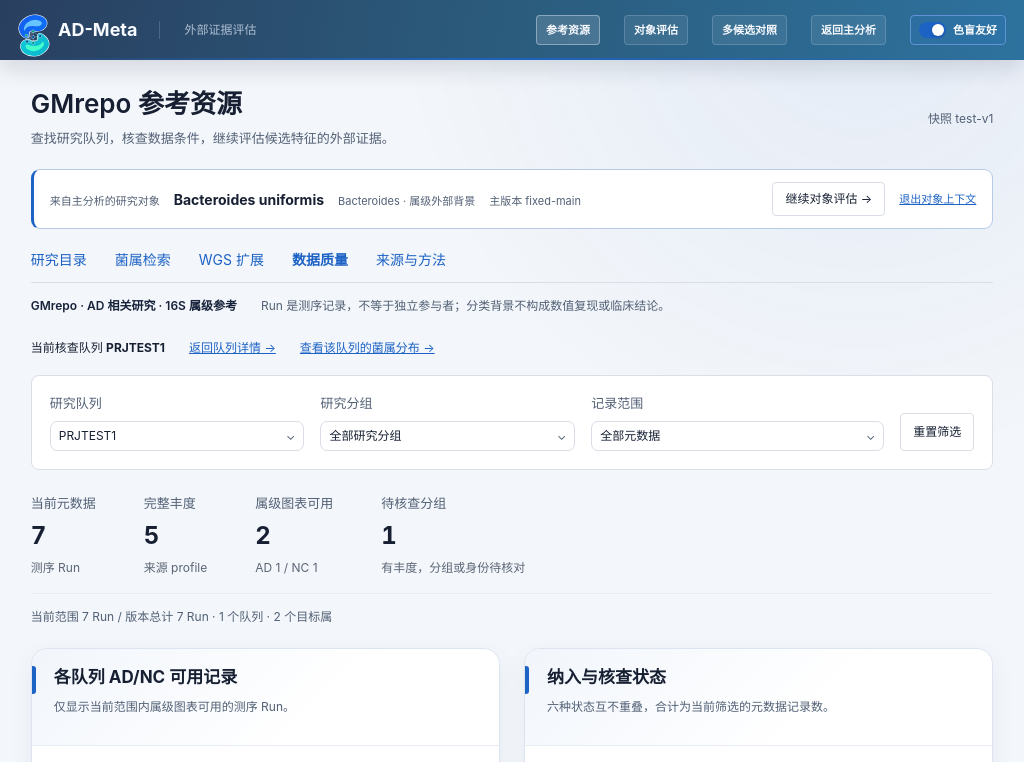
resources preserve the active main subject through view changes and quality-filter resets
Expected: the text "Bacteroides uniformis" is shown, x1=174 y1=189 x2=324 y2=210
Expected: the element named "当前研究对象" shows "Bacteroides uniformis", x1=174 y1=191 x2=324 y2=208
Click the button "重置筛选".
click(937, 432)  # box x1=900 y1=413 x2=974 y2=451
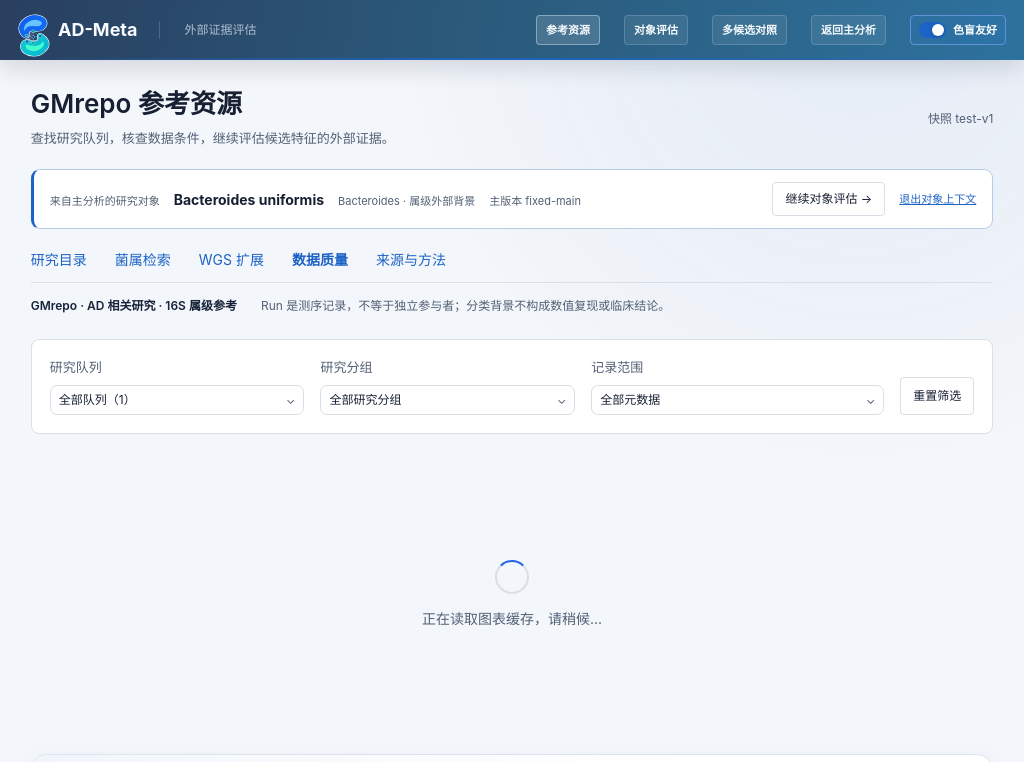
Click the link "来源与方法".
click(411, 260)  # box x1=376 y1=251 x2=446 y2=268
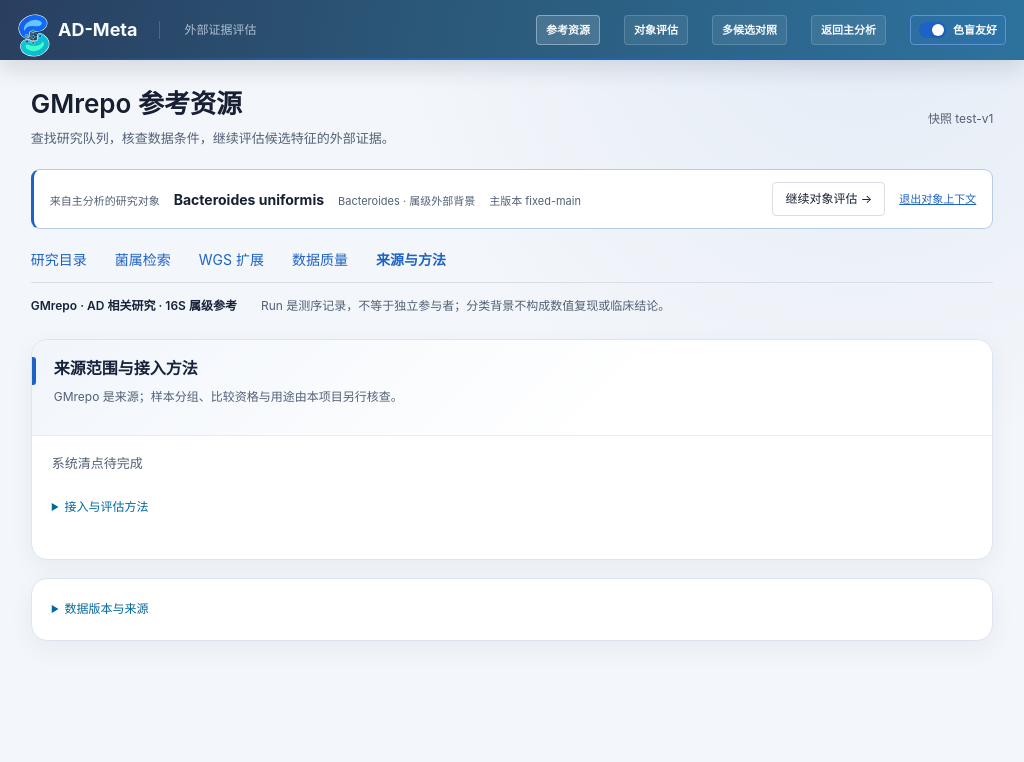
Expected: the element named "当前研究对象" shows "Bacteroides uniformis", x1=174 y1=191 x2=324 y2=208
Now the heading "来源范围与接入方法" is shown, box x1=54 y1=358 x2=198 y2=378
